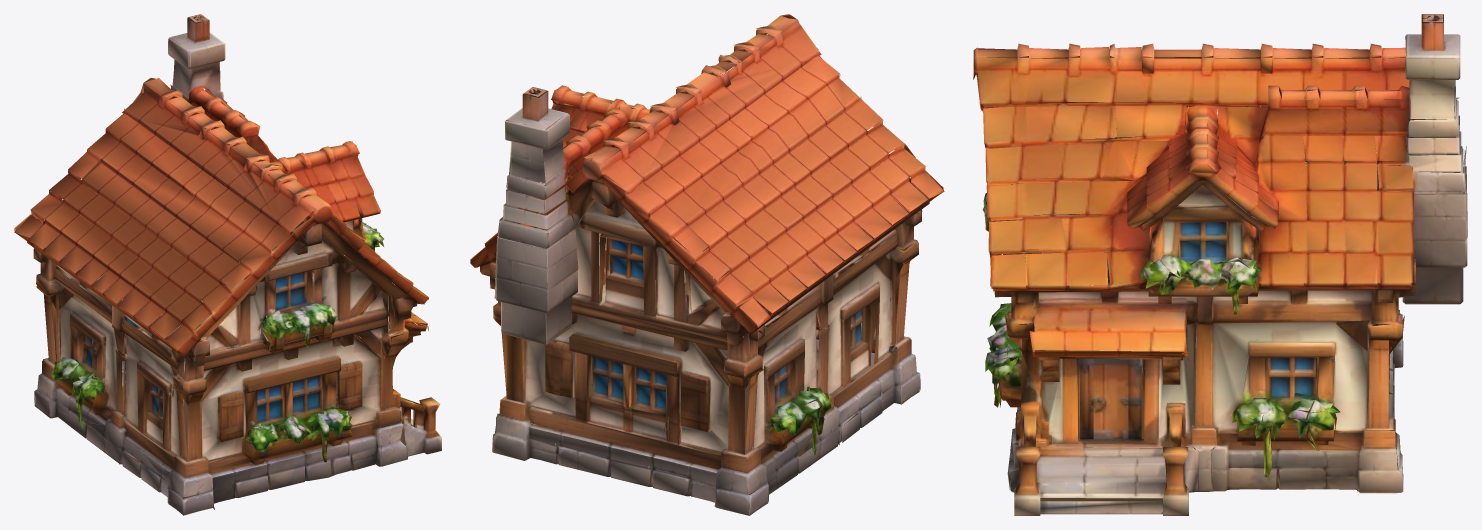
The model's file is cottage.glb.
The picture shows the model from 3 angles, left to right: view 1: azimuth 30°, elevation 25°; view 2: azimuth 150°, elevation 25°; view 3: azimuth 270°, elevation 25°; orthographic projection. The views are drawn at different scales.
Parts seen in each view (by area): view 1: cottage; view 2: cottage; view 3: cottage.
Part boxes in pixels (x1,y1,x2,y2): cottage: [14, 14, 441, 515]; cottage: [470, 14, 944, 515]; cottage: [973, 14, 1467, 515].
Size of the model in its own units: 3.54 by 4.22 by 4.2.
Materials: 1 (1 with a texture image).
